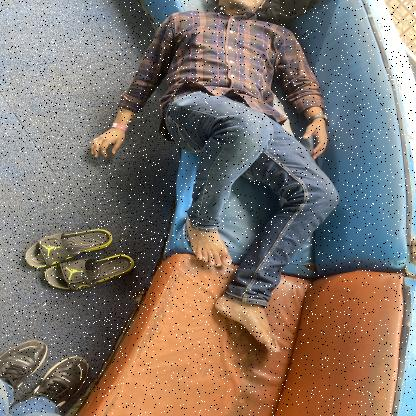hand: (61, 72, 153, 168), (276, 68, 342, 164)
leg: (199, 264, 308, 368), (141, 168, 245, 272)
